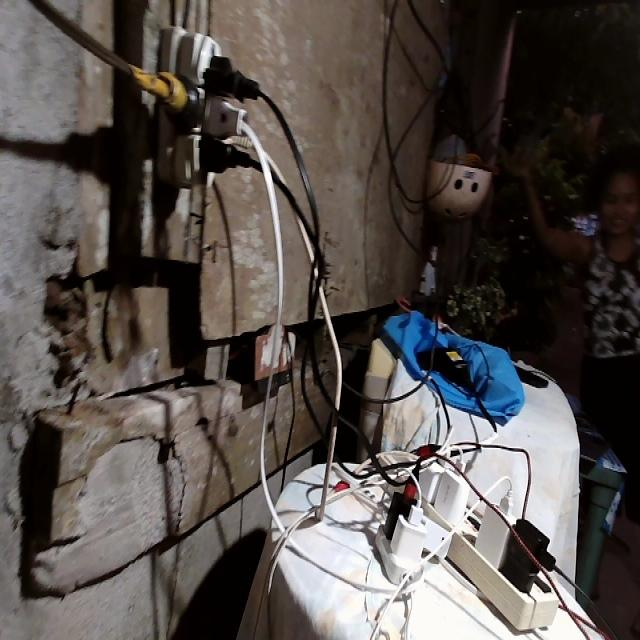-: (144, 20, 264, 196)
